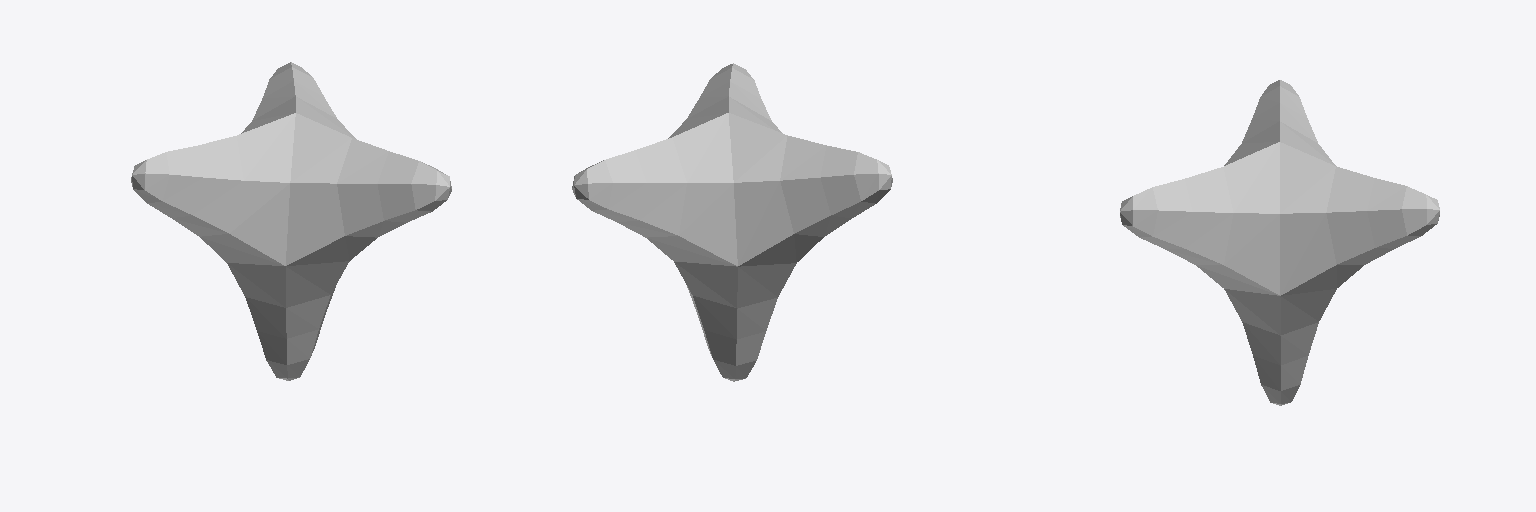
File: Sippysup_Stage1_LOD0.obj
The picture shows the model from 3 angles: view 1: azimuth 30°, elevation 25°; view 2: azimuth 150°, elevation 25°; view 3: azimuth 270°, elevation 25°; orthographic projection.
Visible parts, largest first — view 1: Cube; view 2: Cube; view 3: Cube.
Boxes of the visible parts, <box> form: Cube: <box>131,62,451,380</box>; Cube: <box>572,63,892,381</box>; Cube: <box>1120,80,1439,405</box>.
Bounding box in the file's own units: 0.0942 × 0.0971 × 0.1057.